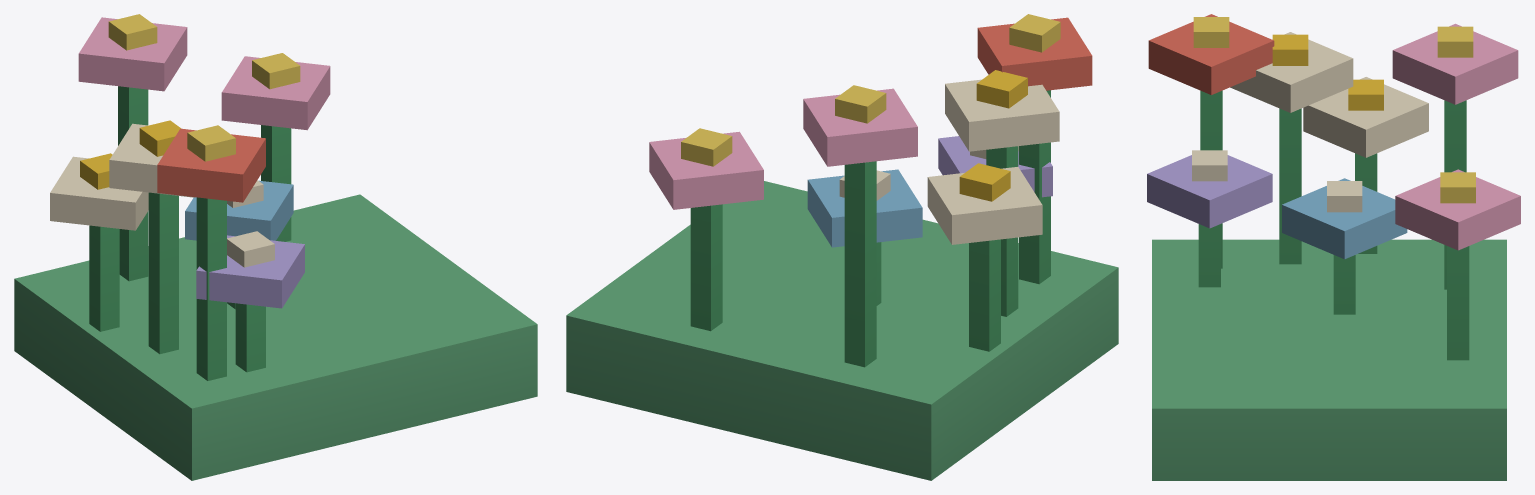
Rendered from flower-clump.glb.
3 renders of one model, left to right at view 1: azimuth 30°, elevation 25°; view 2: azimuth 150°, elevation 25°; view 3: azimuth 270°, elevation 25°, orthographic. The views are drawn at different scales.
Visible parts, largest first — view 1: flower-clump_body; view 2: flower-clump_body; view 3: flower-clump_body.
Boxes of the visible parts, x1,y1,x2,y2 form: flower-clump_body: (14,14,537,480); flower-clump_body: (566,14,1118,480); flower-clump_body: (1147,14,1520,480).
Size of the model in its own units: 0.9906 by 0.8036 by 0.8423.
